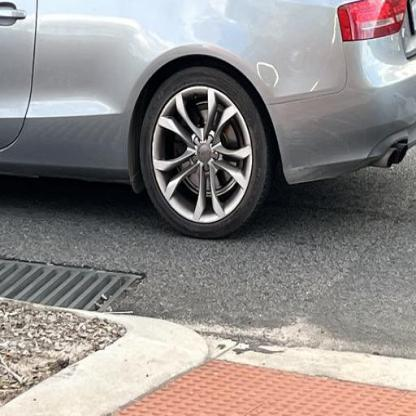Tire: (140, 67, 268, 239)
